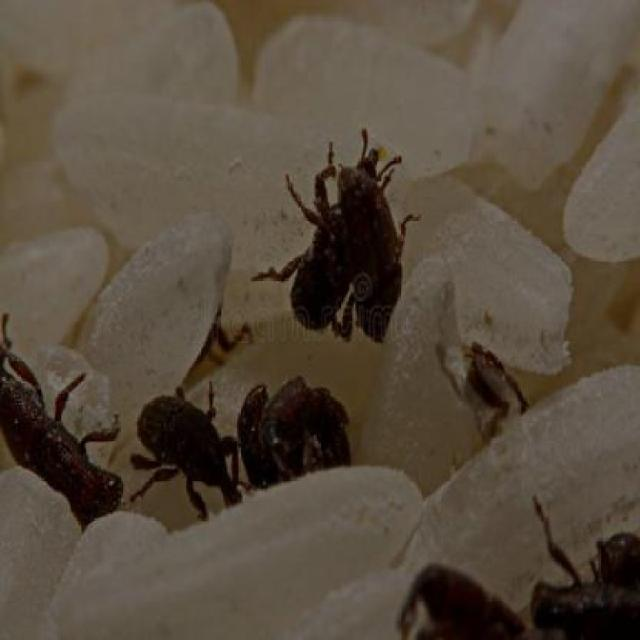rice-bug: (0, 292, 125, 528), (283, 123, 412, 335), (136, 354, 235, 528), (534, 497, 637, 640), (240, 378, 358, 498), (397, 560, 528, 640), (462, 340, 533, 414)
